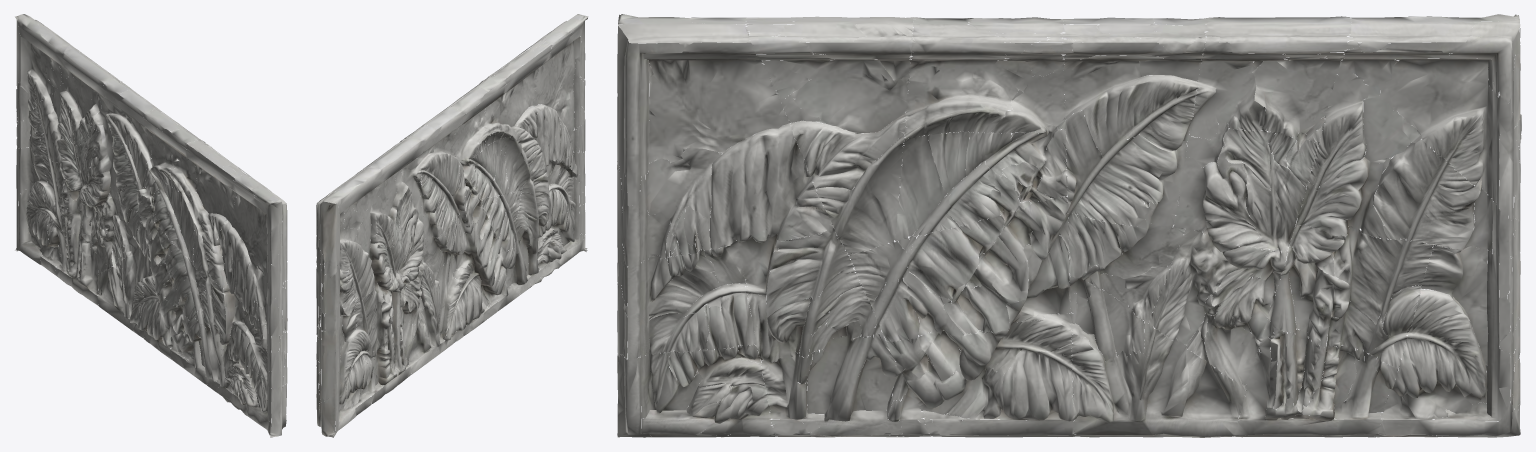
The model's file is relief-8.glb.
The picture shows the model from 3 angles, left to right: view 1: azimuth 30°, elevation 25°; view 2: azimuth 150°, elevation 25°; view 3: azimuth 270°, elevation 25°; orthographic projection. The views are drawn at different scales.
Visible parts, largest first — view 1: tripo_node_fd883bb9-c680-4604-a2e1-8e769417d7b1; view 2: tripo_node_fd883bb9-c680-4604-a2e1-8e769417d7b1; view 3: tripo_node_fd883bb9-c680-4604-a2e1-8e769417d7b1.
Boxes of the visible parts, <box> form: tripo_node_fd883bb9-c680-4604-a2e1-8e769417d7b1: <box>15,14,287,437</box>; tripo_node_fd883bb9-c680-4604-a2e1-8e769417d7b1: <box>316,14,588,437</box>; tripo_node_fd883bb9-c680-4604-a2e1-8e769417d7b1: <box>617,14,1521,437</box>.
Size of the model in its own units: 0.0738 by 0.4974 by 0.9795.
1 material, 1 textured.
